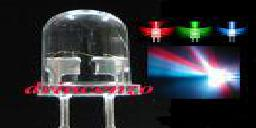LED: (35, 9, 137, 128)
